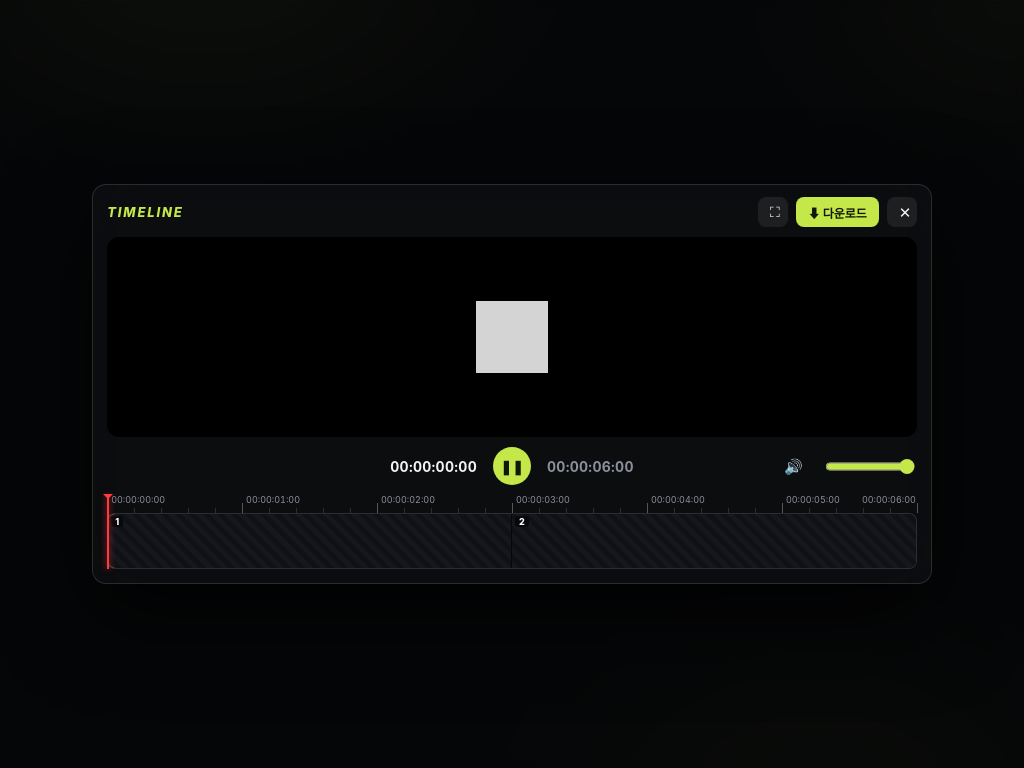
성공은 순서 유지, 중복 요청 금지, 실패 안내 없음
Click the button "⬇ 다운로드".
click(837, 212)  # box [796,197,879,227]
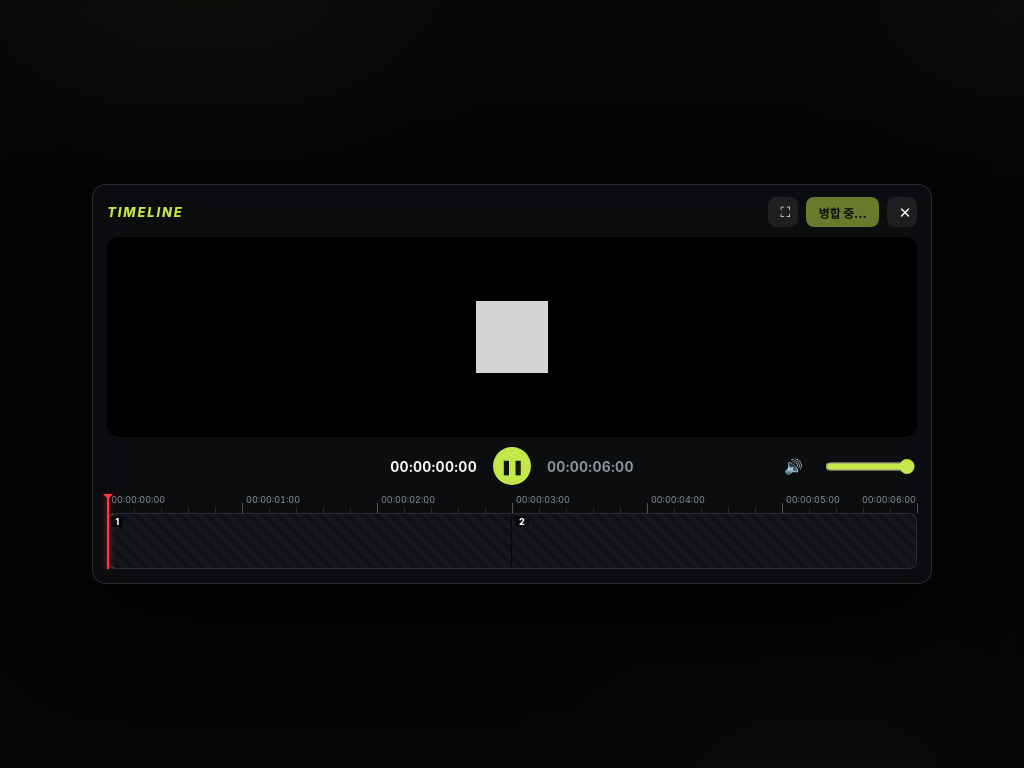
Result: the button "병합 중…" is disabled
Click the button "병합 중…".
click(843, 212)  # box [806,197,879,227]
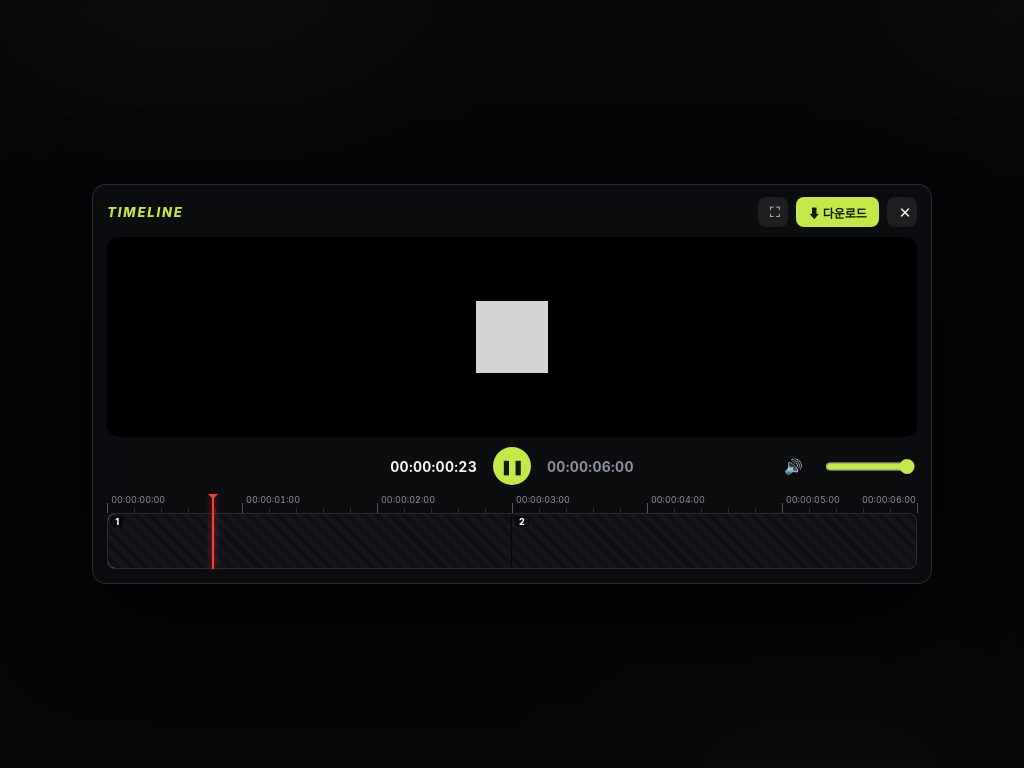
Result: the button "⬇ 다운로드" is enabled at [796,197,879,227]
